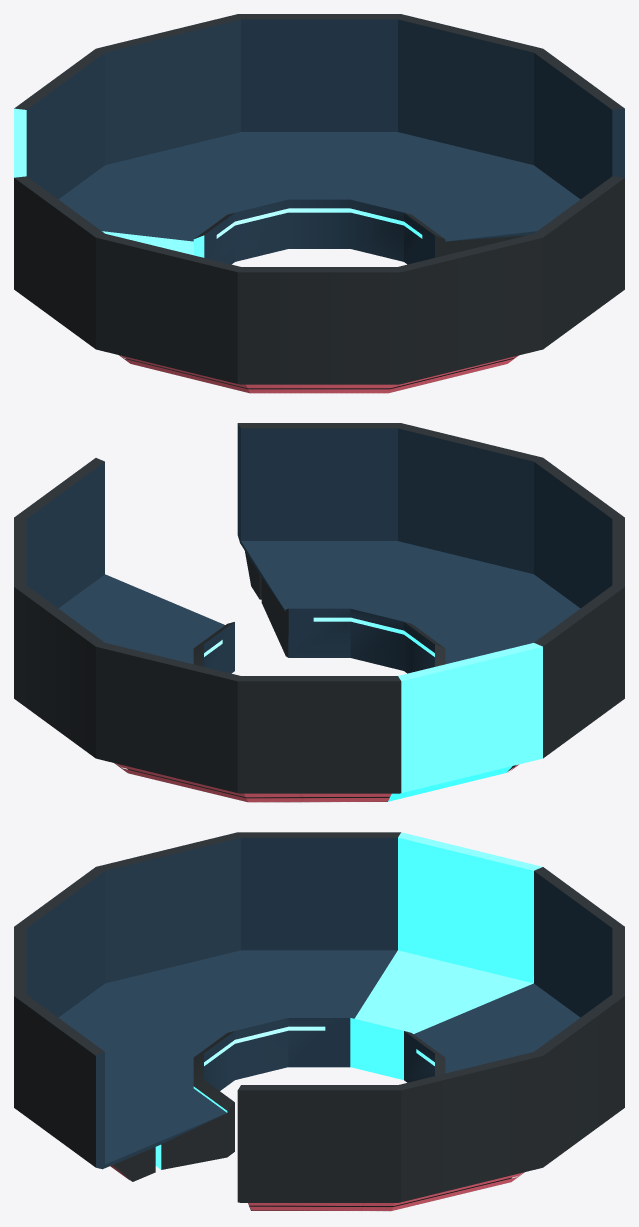
File: Aero_Station_YellowRing_Art.glb
3 renders of one model, top to bottom at view 1: azimuth 30°, elevation 25°; view 2: azimuth 150°, elevation 25°; view 3: azimuth 270°, elevation 25°, orthographic.
Parts seen in each view (by area): view 1: Aero_Station_YellowRing_Art; view 2: Aero_Station_YellowRing_Art; view 3: Aero_Station_YellowRing_Art.
Boxes of the visible parts, <box> form: Aero_Station_YellowRing_Art: <box>14,14,624,393</box>; Aero_Station_YellowRing_Art: <box>14,423,624,802</box>; Aero_Station_YellowRing_Art: <box>14,832,624,1211</box>.
Size of the model in its own units: 10.88 by 3.09 by 10.88.
5 materials, 2 textured.
